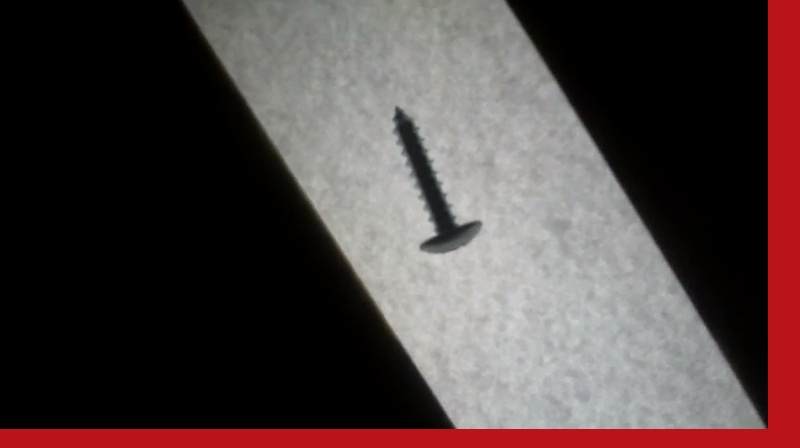S003: (389, 105, 484, 255)
